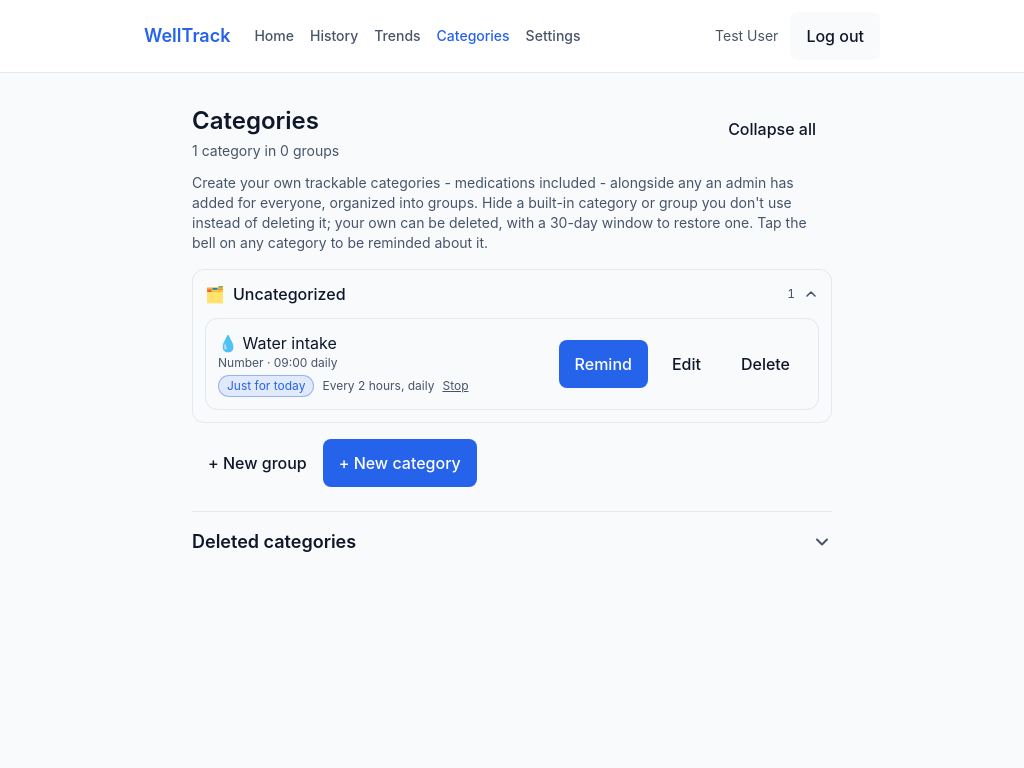
Test: CategoriesPage › a category with both a standing and a temporary reminder › stops the temporary one without touching the standing one
The image size is (1024, 768).
Expected: the text "Just for today" is shown, [218,375,314,397]
Click the button "Stop": click(455, 386) [442,378,468,394]
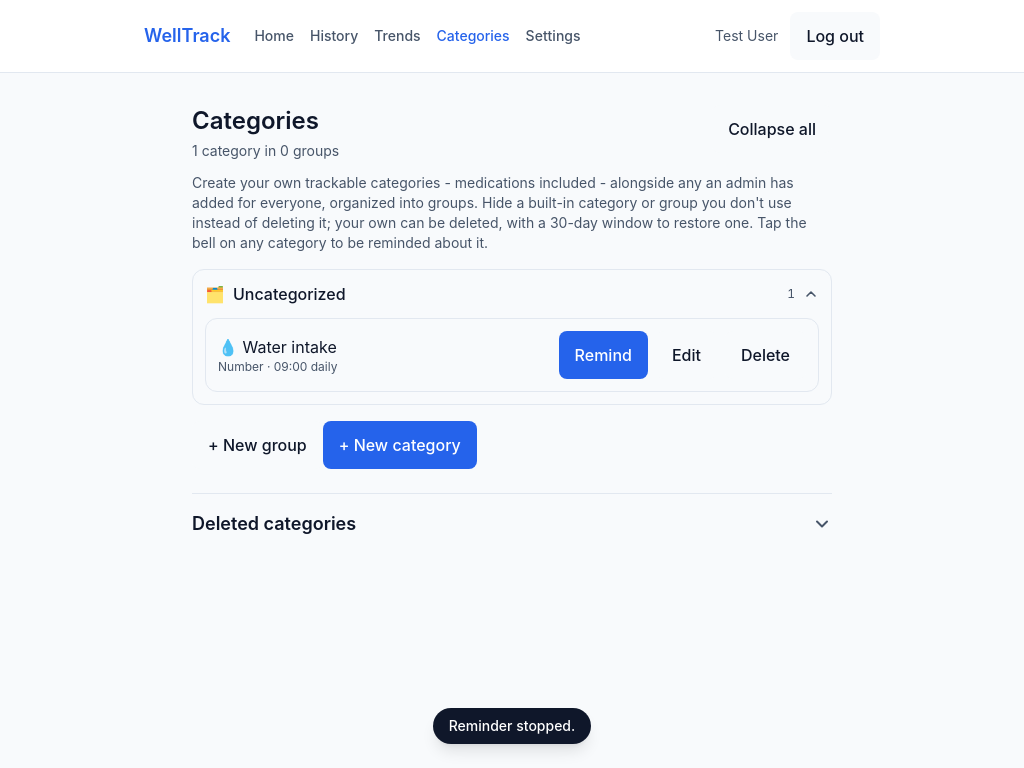
Expected: the text "Number · 09:00 daily" is shown, [218,359,337,375]
Now the text "Just for today" is gone
